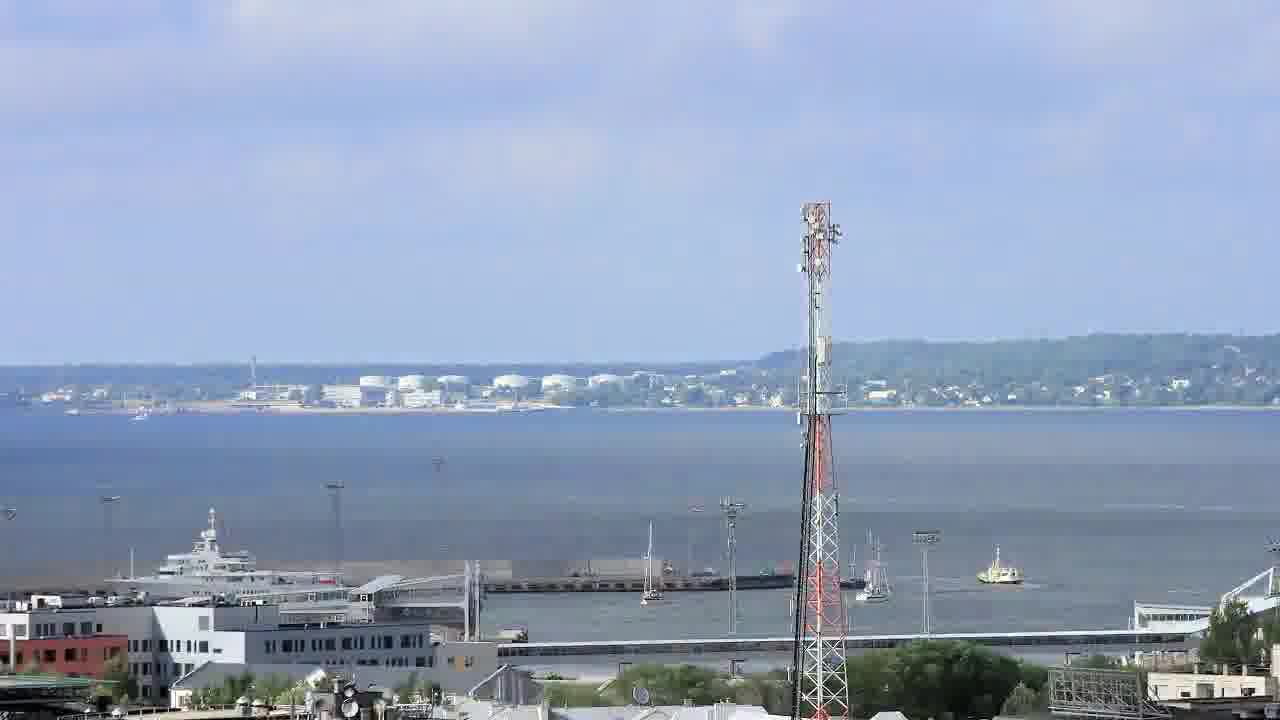type-0: (624, 557, 694, 616), (960, 540, 1037, 592), (848, 562, 896, 610)
type-3: (91, 517, 384, 618)
